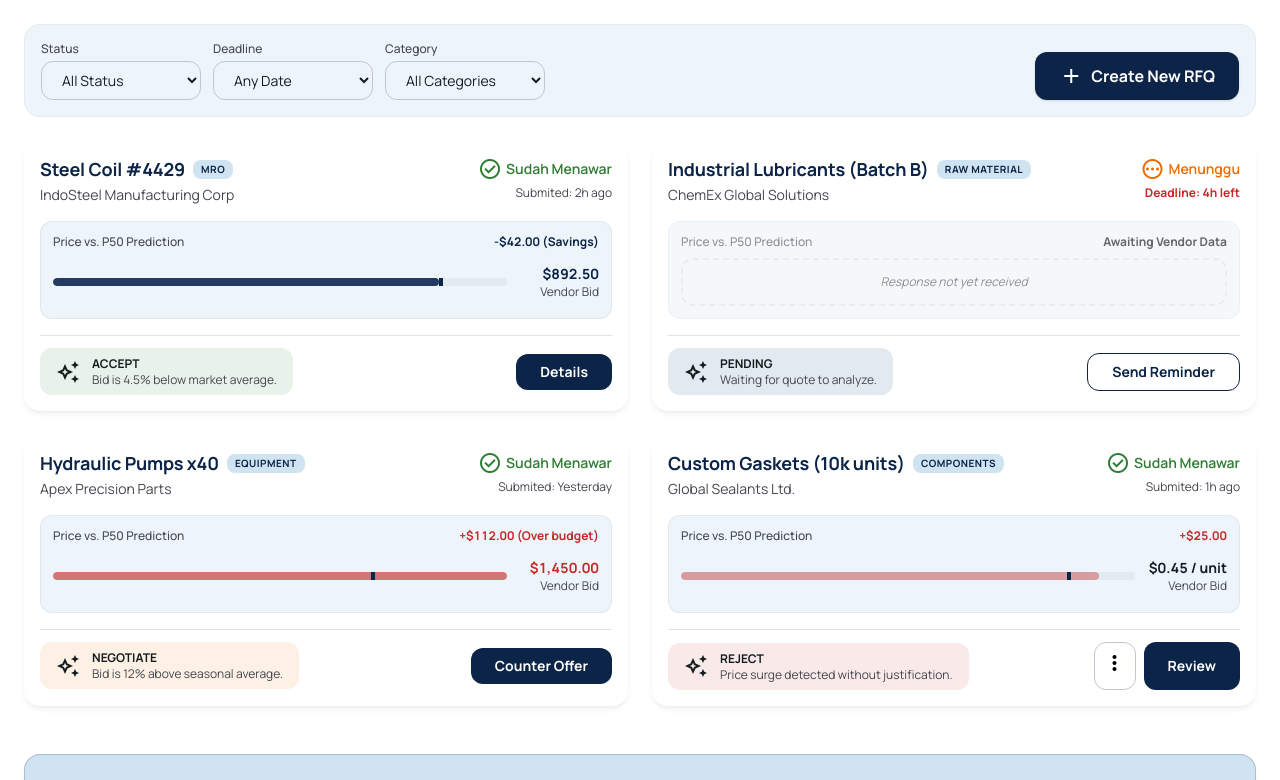
Scenario: RfqManagementPage › filters the list by category
Select "Equipment" in the dropdown labelled "Category" at (465, 80), box [385,61,545,100]
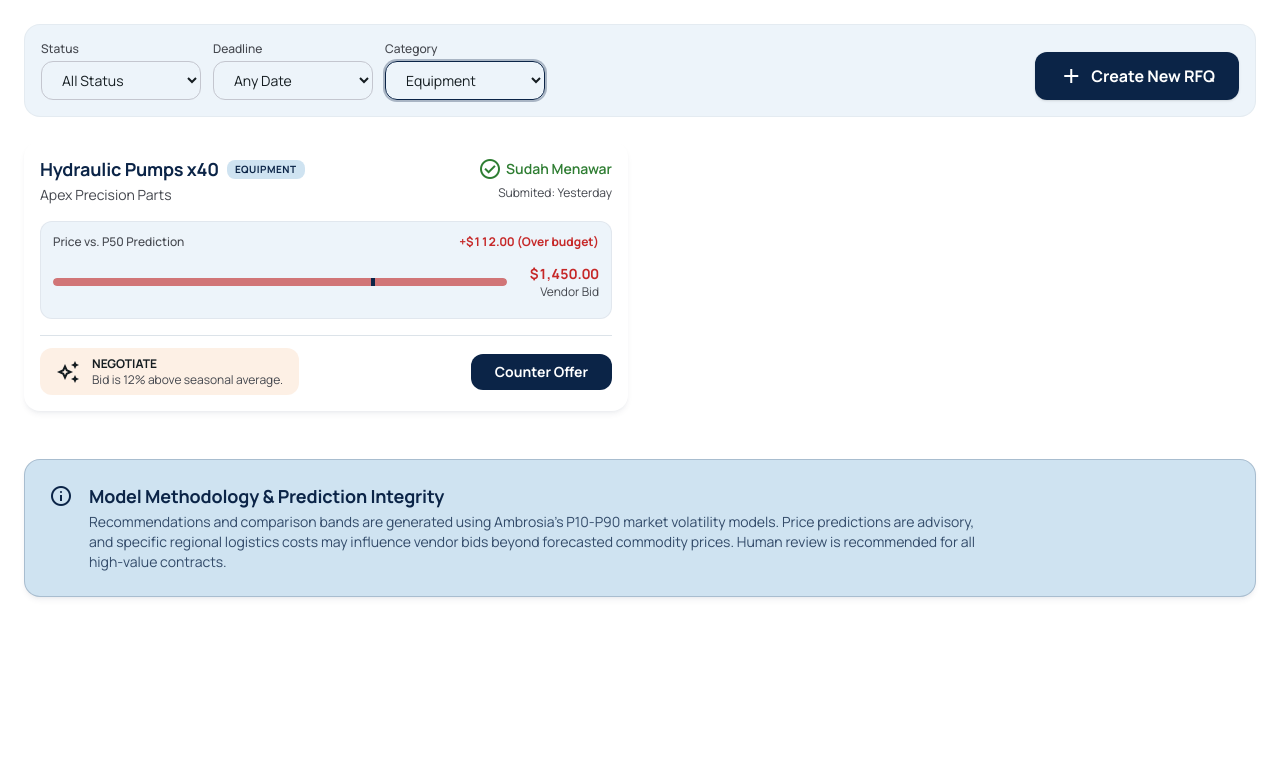
Expected: the heading "Hydraulic Pumps x40" is shown, [40,157,219,181]
Expected: the heading "Steel Coil #4429" is gone
